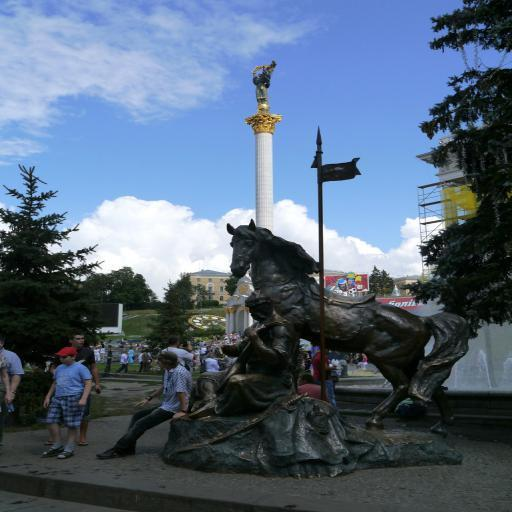horse: (226, 216, 476, 430)
